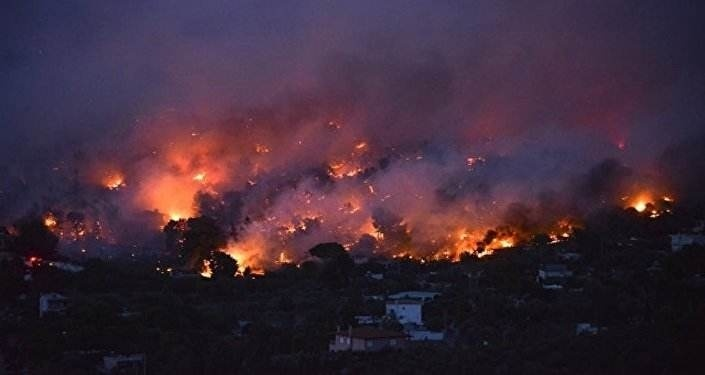fire: (623, 187, 668, 217)
